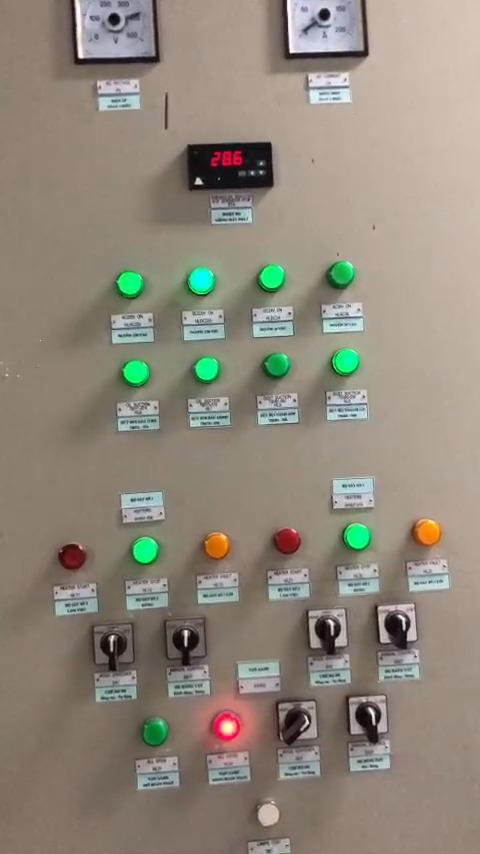led: (55, 539, 89, 571), (213, 712, 244, 745), (140, 719, 173, 750), (255, 265, 290, 294), (340, 524, 373, 554), (114, 270, 145, 301), (328, 260, 359, 290), (414, 518, 444, 549), (200, 531, 230, 561), (130, 535, 160, 565), (272, 524, 300, 556), (192, 356, 221, 385), (120, 360, 149, 389), (187, 266, 215, 295), (262, 353, 291, 381), (332, 348, 360, 376), (259, 804, 285, 830)
twist: (92, 622, 133, 670), (307, 608, 348, 652), (278, 699, 318, 743), (168, 618, 209, 660), (348, 695, 388, 738), (377, 603, 416, 644)
